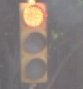Red: (14, 4, 53, 87)
